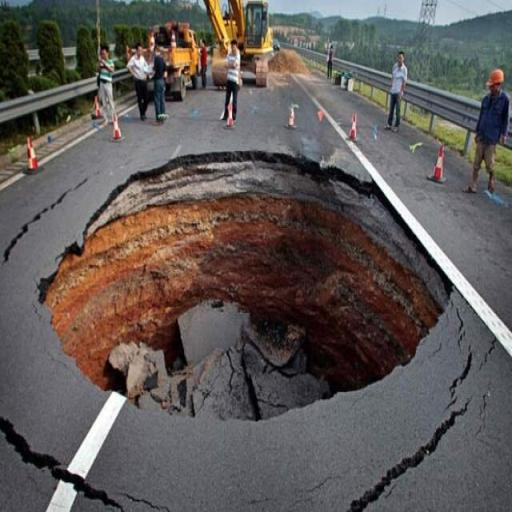Concentric_Crack: (0, 151, 504, 510)
